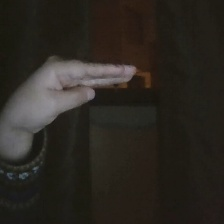H: (1, 48, 146, 141)
